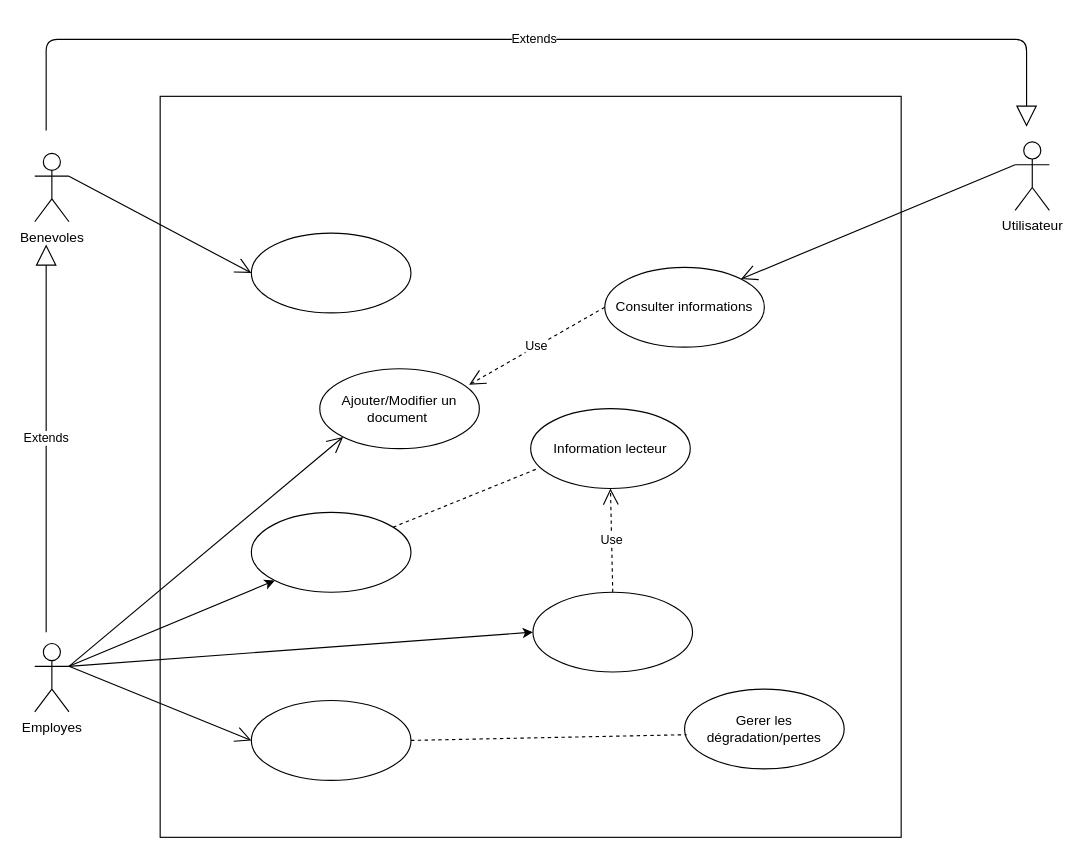
Some shapes in this 1082 by 857 pixel diagram are drawn without their labels. Each missing label, with the box of its shape:
Abonnements: (250, 511, 411, 592)
Gestion des emprunts: (250, 232, 411, 313)
Relances: (532, 591, 693, 672)
Retours des documents: (250, 699, 411, 780)
